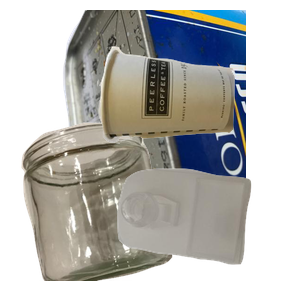glass: (19, 120, 184, 300)
metal: (60, 10, 300, 190)
plastic: (115, 166, 300, 300)
trash: (95, 44, 300, 180)
